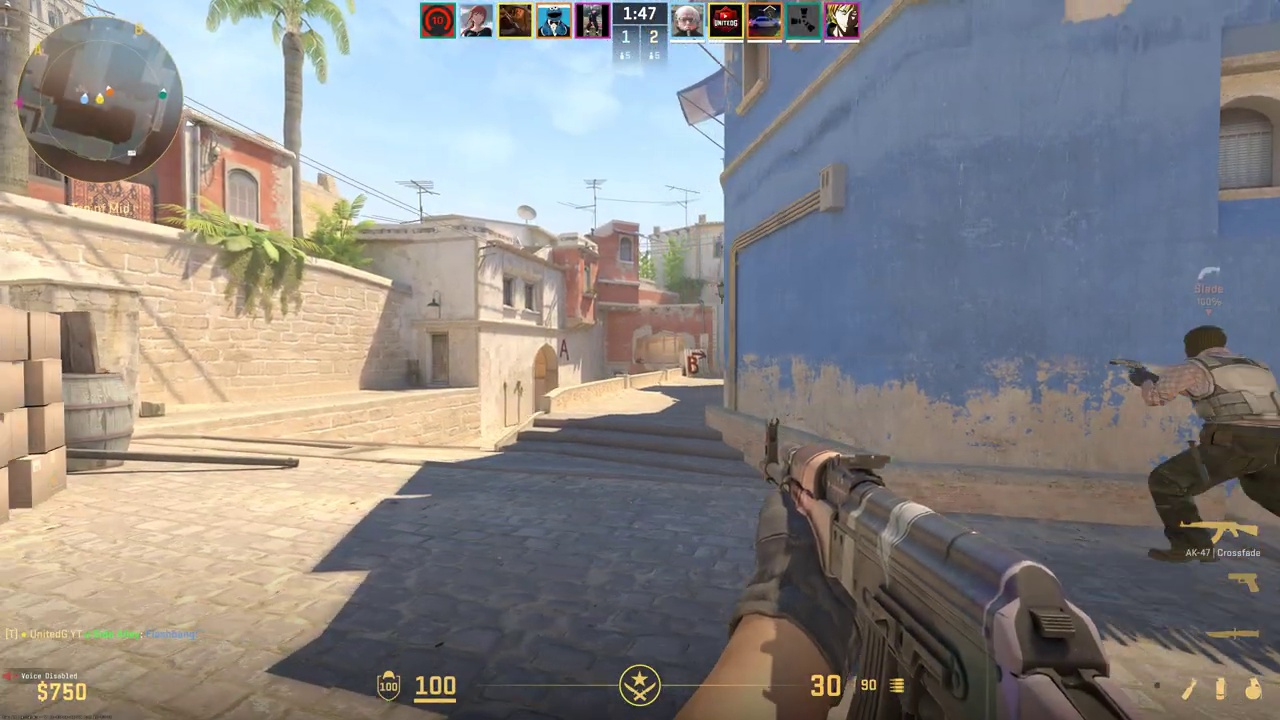Terrorist: (1144, 324, 1280, 563)
